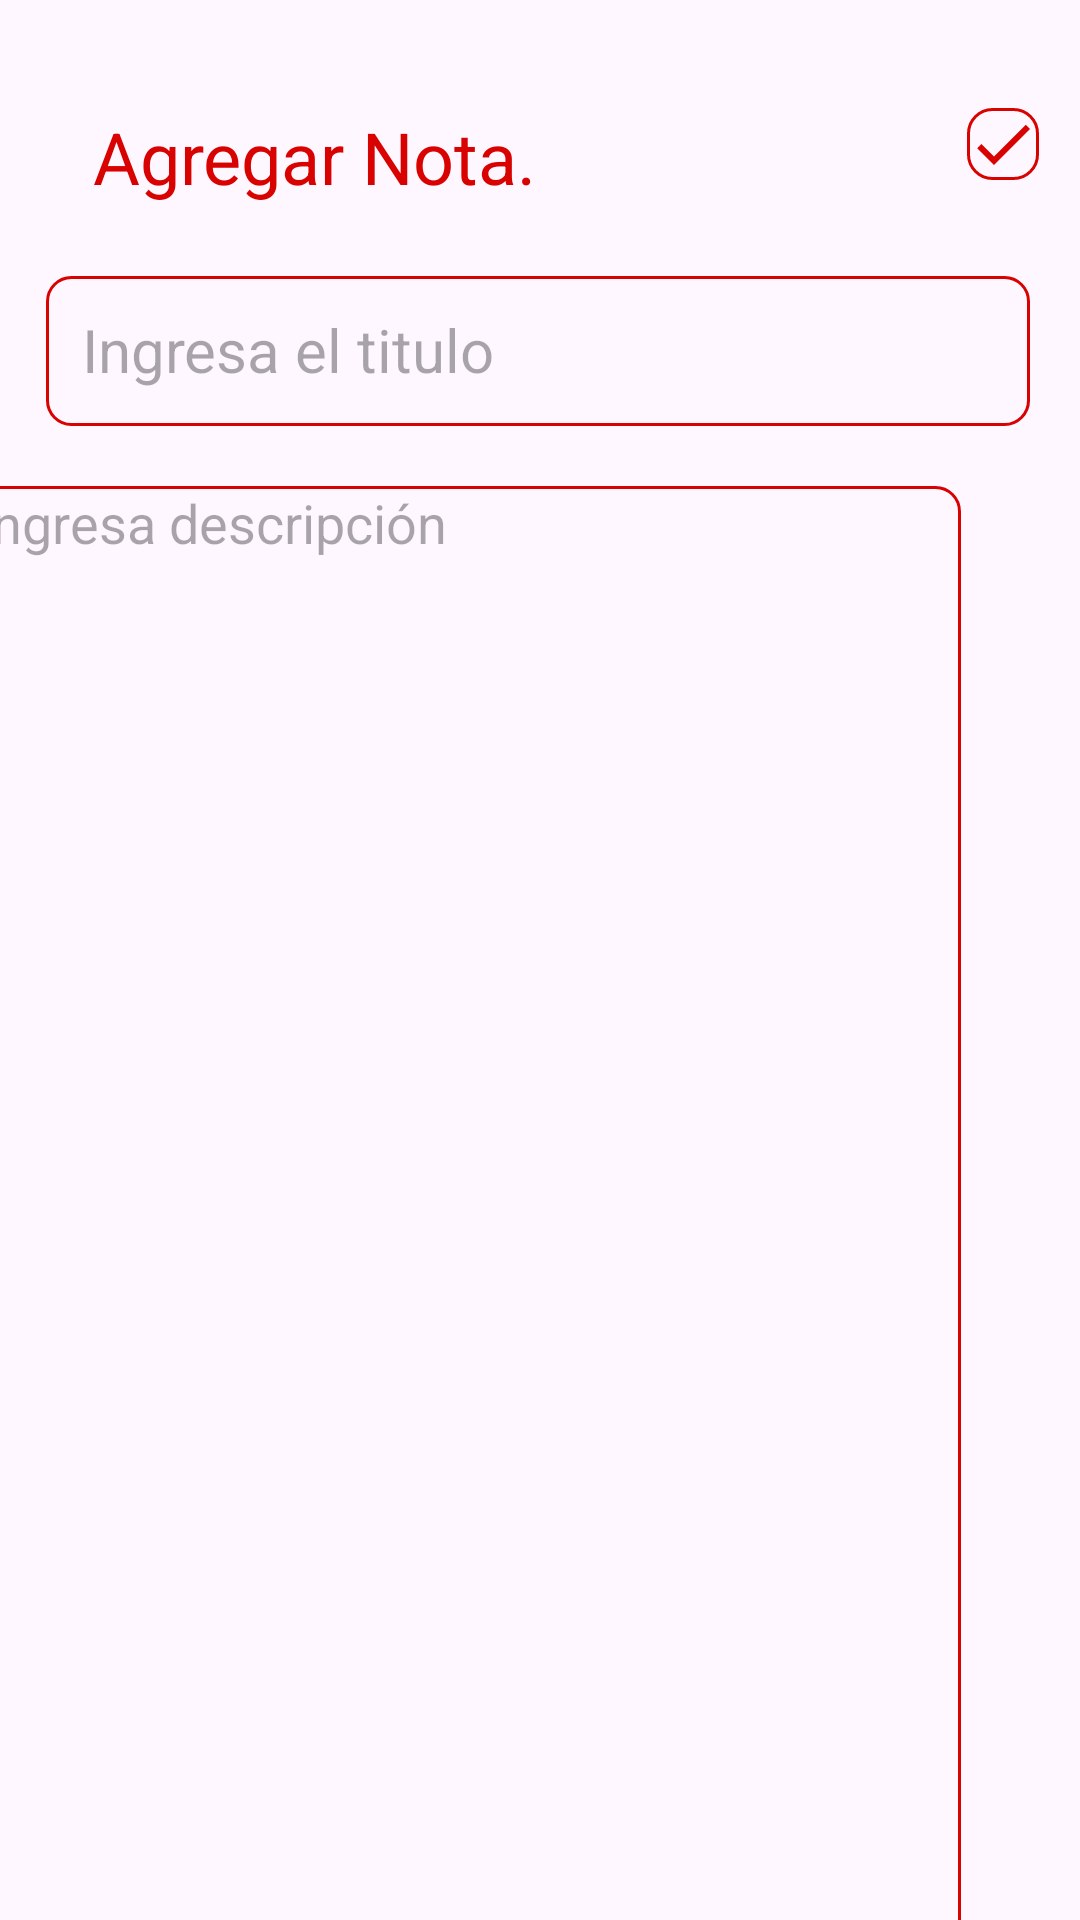

Locate icon controls on the screen. Image size 1080px x 1920px, boxes as (x1, y1, x2, y2).
Guardar Nota: (967, 108, 1039, 180)
